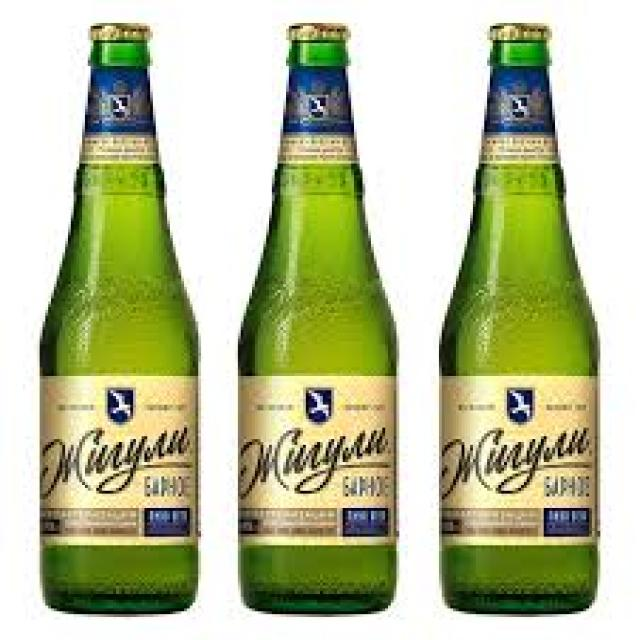glass: (235, 38, 394, 612), (37, 40, 195, 614), (439, 40, 597, 611)
metal: (484, 20, 547, 37), (283, 18, 346, 35), (88, 20, 144, 35)
